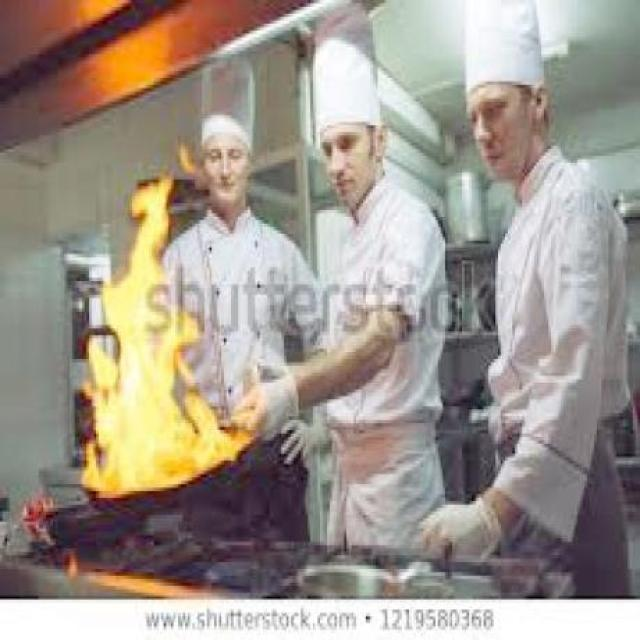Fire: (80, 166, 262, 498)
